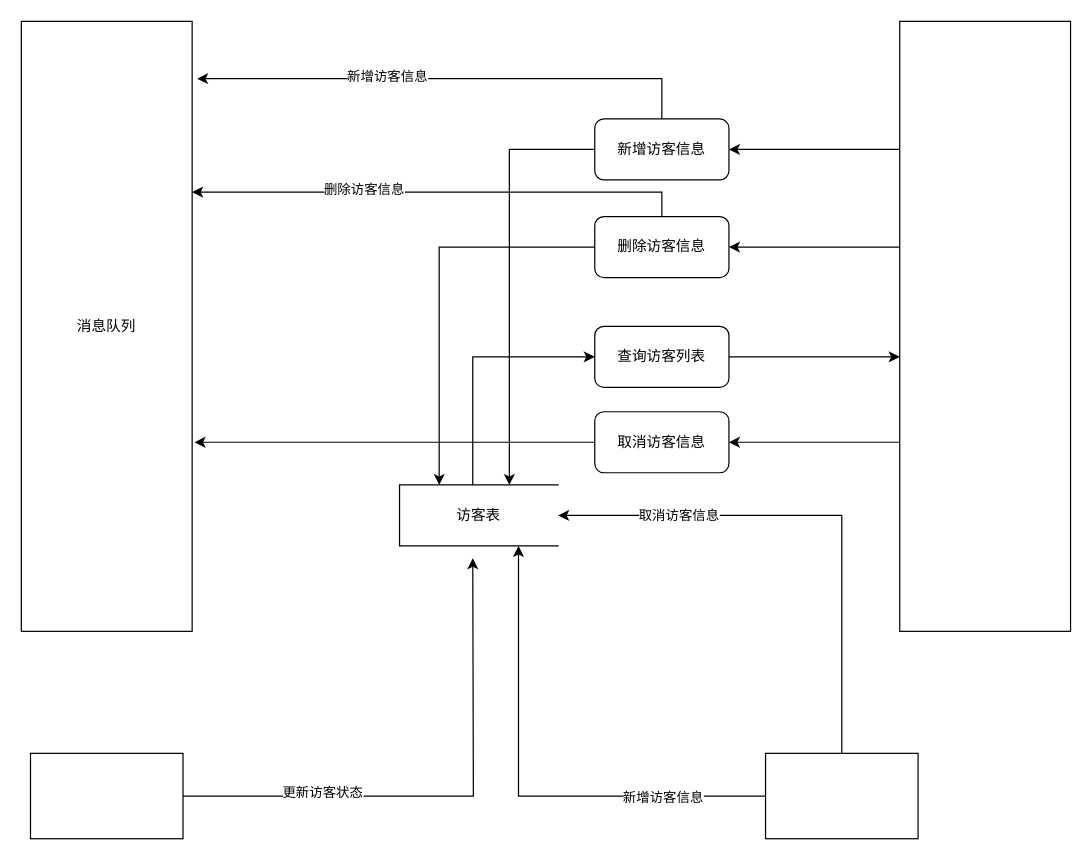
The diagram is 1092 pixels wide and 860 high, and some of its shapes have lost their labels. The shapes that lost their labels are listed below. From the top down, each one's centre as x and y in pixels, then its label:
(985,325): 管理员
(106,795): 子系统适配器
(841,795): 访客通行模块
